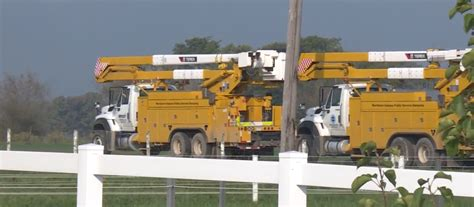pole: (271, 3, 320, 160)
